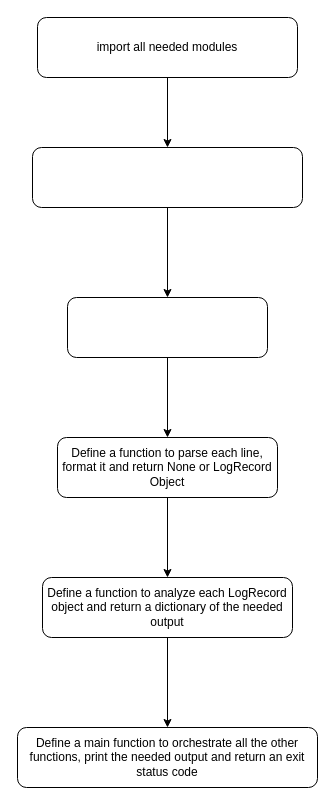
This 335x805 diagram has some shape labels left out. The shapes that lost their labels are listed below. From the top down, each one's centre as x and y in pixels, then its label:
pixel 167 177: Define a LogRecord dataclass
pixel 167 327: define a function to open the log file and yield it line by line
